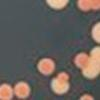orange: (79, 56, 100, 81), (50, 78, 71, 97), (36, 57, 55, 75), (14, 80, 32, 98), (73, 51, 90, 69), (90, 19, 100, 44), (90, 46, 100, 69), (0, 84, 14, 100), (76, 0, 91, 13), (87, 0, 100, 12), (56, 70, 68, 80), (77, 94, 95, 100)
white: (45, 0, 70, 11)
